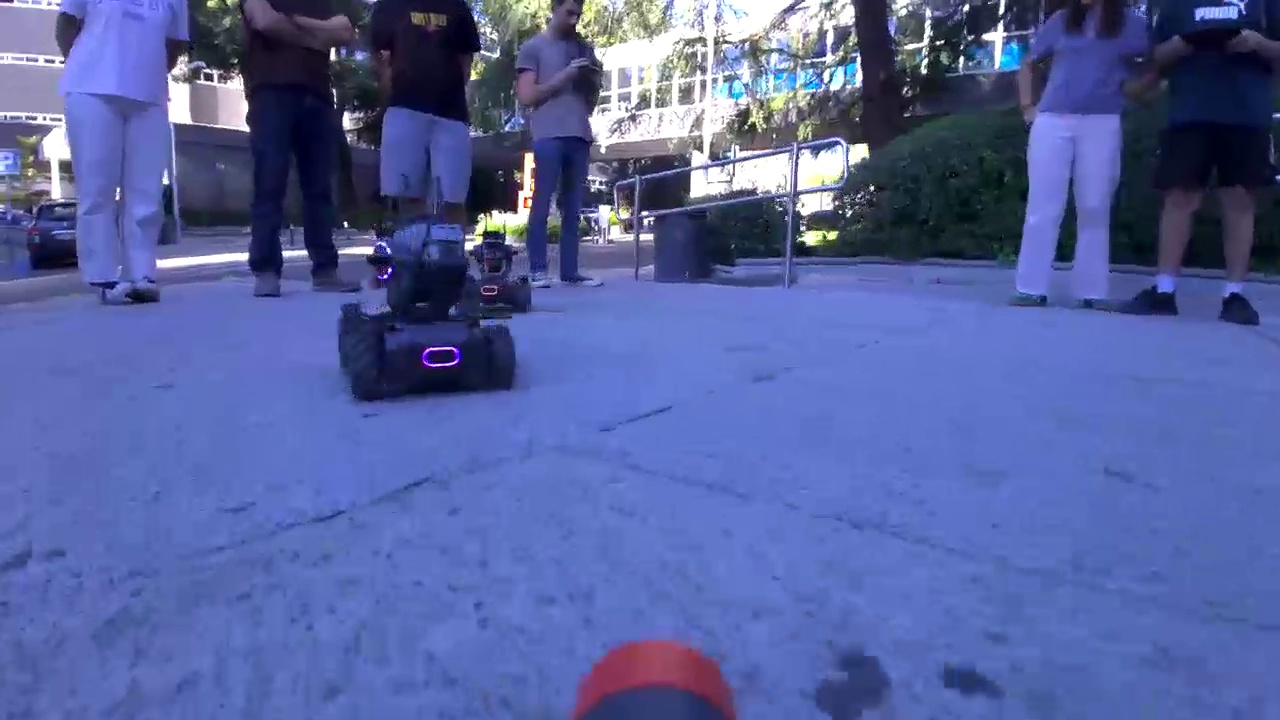robot: (336, 211, 519, 402), (459, 230, 531, 311)
